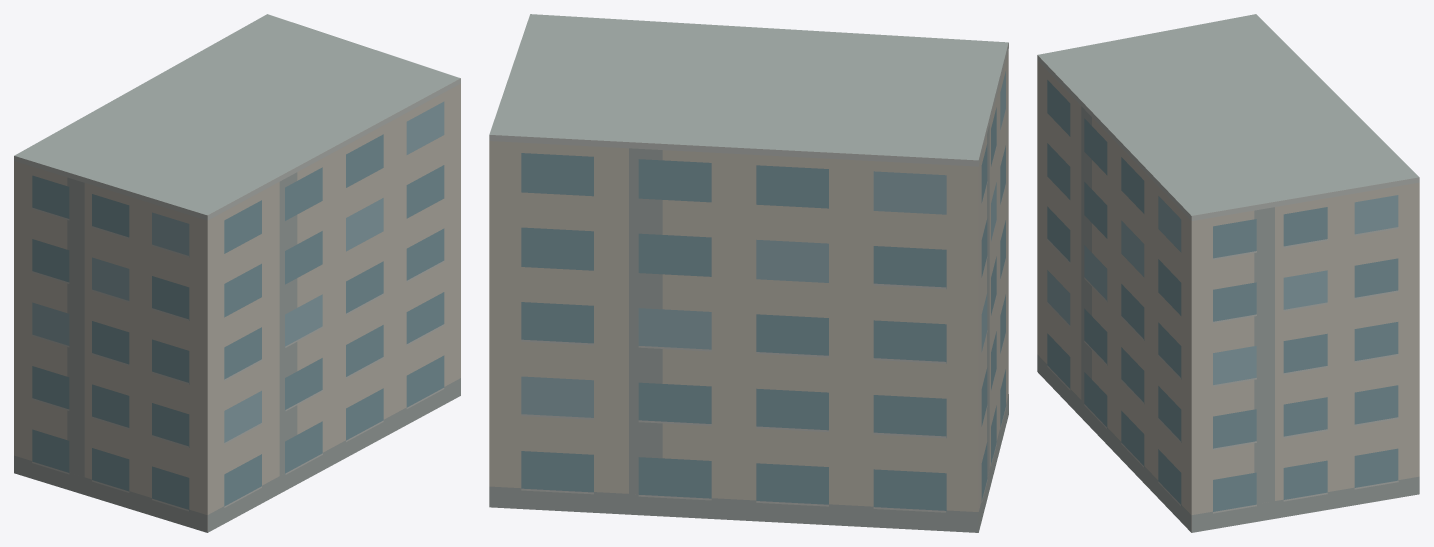
File: survey-upis-32853805.glb
3 renders of one model, left to right at view 1: azimuth 30°, elevation 25°; view 2: azimuth 150°, elevation 25°; view 3: azimuth 270°, elevation 25°, orthographic. The views are drawn at different scales.
Visible parts, largest first — view 1: survey-upis-32853805.tmp; view 2: survey-upis-32853805.tmp; view 3: survey-upis-32853805.tmp.
Part boxes in pixels (x1,y1,x2,y2): survey-upis-32853805.tmp: [14, 14, 460, 532]; survey-upis-32853805.tmp: [489, 14, 1008, 532]; survey-upis-32853805.tmp: [1037, 14, 1419, 532].
Bounding box in the file's own units: 20.02 × 14.65 × 16.02.
